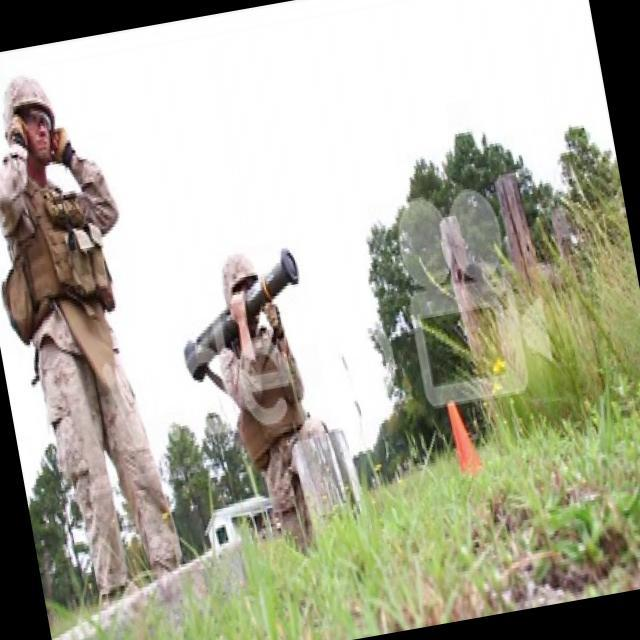rocket: (168, 243, 316, 394)
